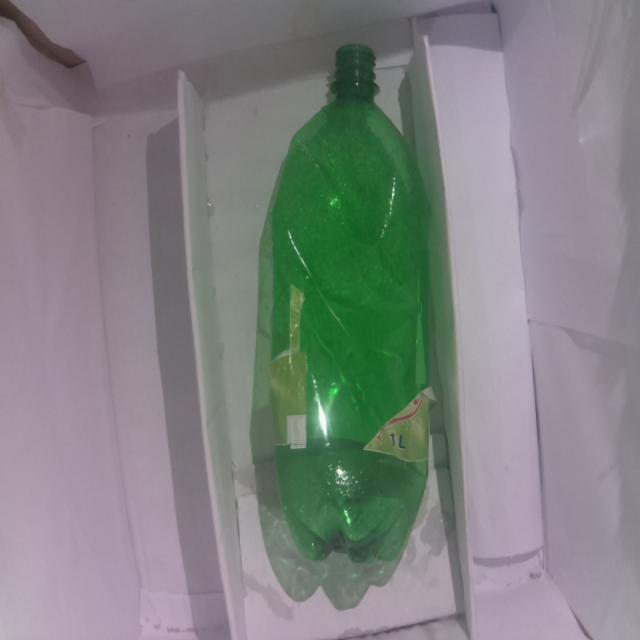Anorganik: (253, 50, 430, 575)
